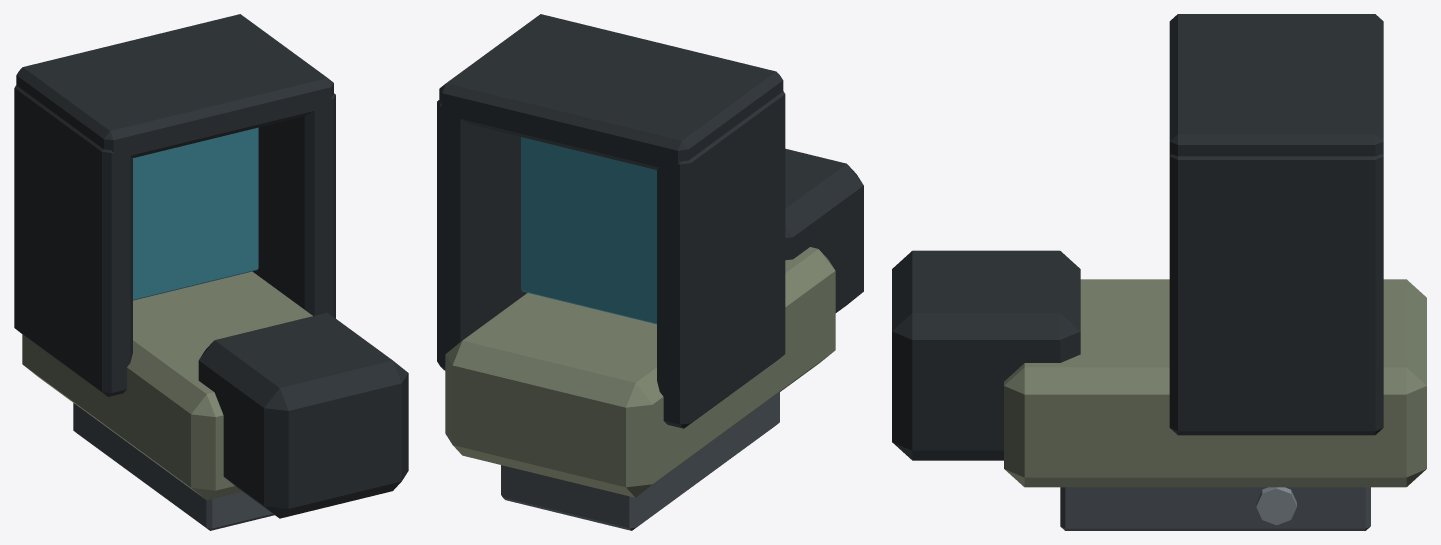
The model's file is att_optic_holo.glb.
3 renders of one model, left to right at view 1: azimuth 30°, elevation 25°; view 2: azimuth 150°, elevation 25°; view 3: azimuth 270°, elevation 25°, orthographic. The views are drawn at different scales.
Parts seen in each view (by area): view 1: Geometry_att_optic_holo; view 2: Geometry_att_optic_holo; view 3: Geometry_att_optic_holo.
Boxes of the visible parts, left/top/right/bottom form: Geometry_att_optic_holo: left=14, top=14, right=408, bottom=530; Geometry_att_optic_holo: left=437, top=14, right=863, bottom=530; Geometry_att_optic_holo: left=892, top=14, right=1426, bottom=530.
Bounding box in the file's own units: 0.06 × 0.092 × 0.105.
